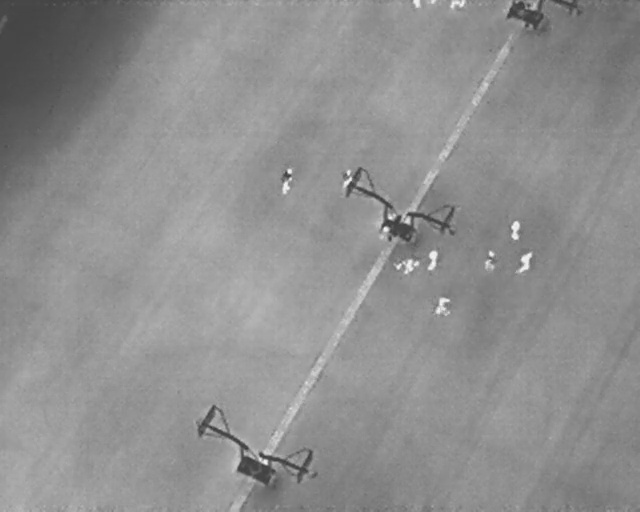Person: (513, 247, 537, 278), (278, 166, 296, 197), (432, 293, 454, 317), (392, 257, 421, 275), (423, 247, 442, 272), (341, 167, 354, 190), (483, 249, 496, 272), (510, 220, 520, 243), (449, 0, 467, 10), (381, 225, 391, 239), (413, 0, 422, 9)
